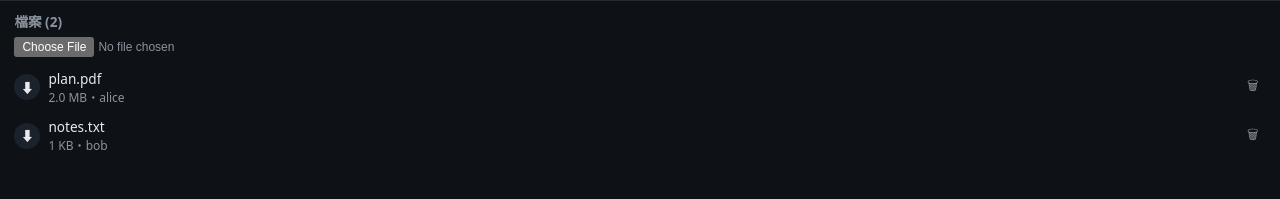
FilesPanel › surfaces a refused deletion rather than looking like it worked
Step 1. Click the button named "刪除" → point(1253, 88), box [1240,73,1266,102]
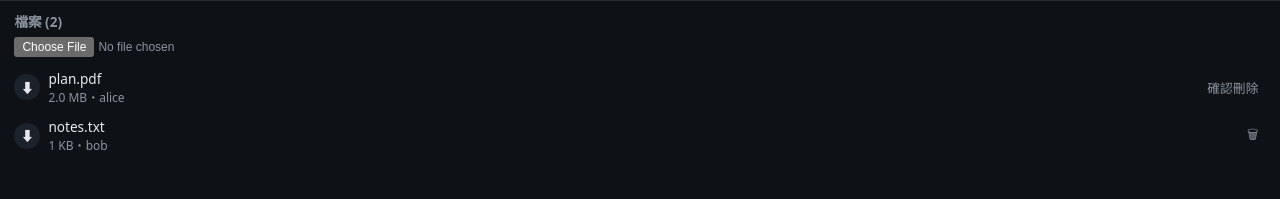
Step 2. Click the button "確認刪除" → point(1233, 88), box [1200,75,1266,100]
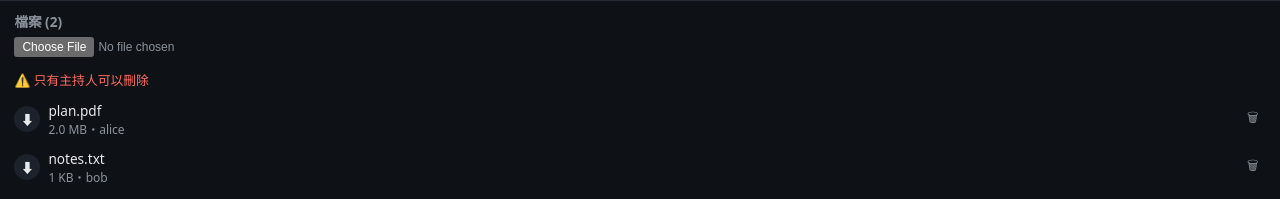
Check: the text "⚠️ 只有主持人可以刪除" is shown, box [14,71,149,89]
